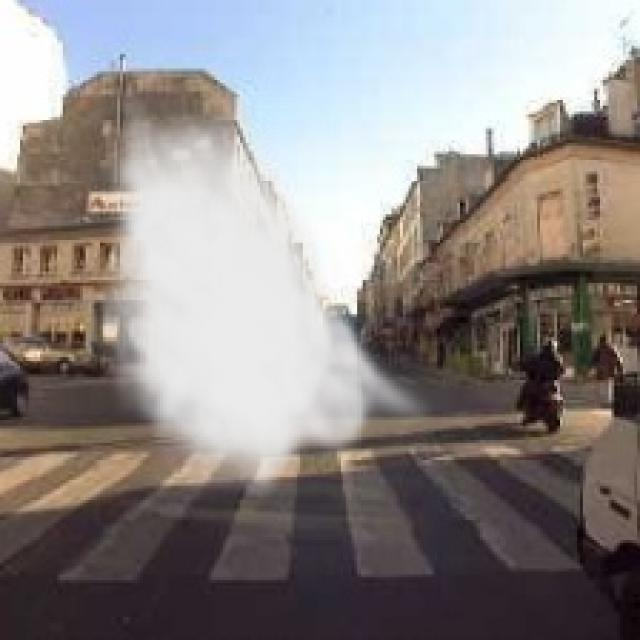Smoke: (89, 86, 438, 506)
